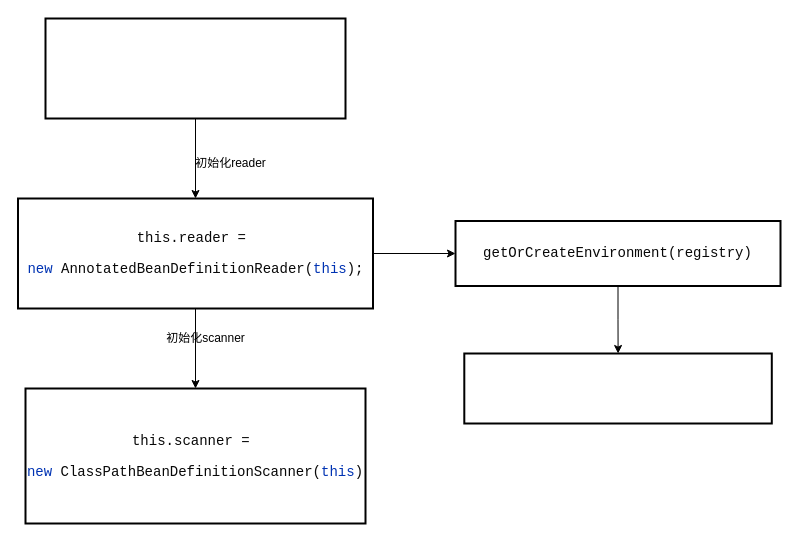
This 799x541 diagram has some shape labels left out. Each missing label, with the centre of its shape:
"AnnotationConfigApplicationContext" belongs at [195,68].
"registerAnnotationConfigProcessors" belongs at [617,388].
